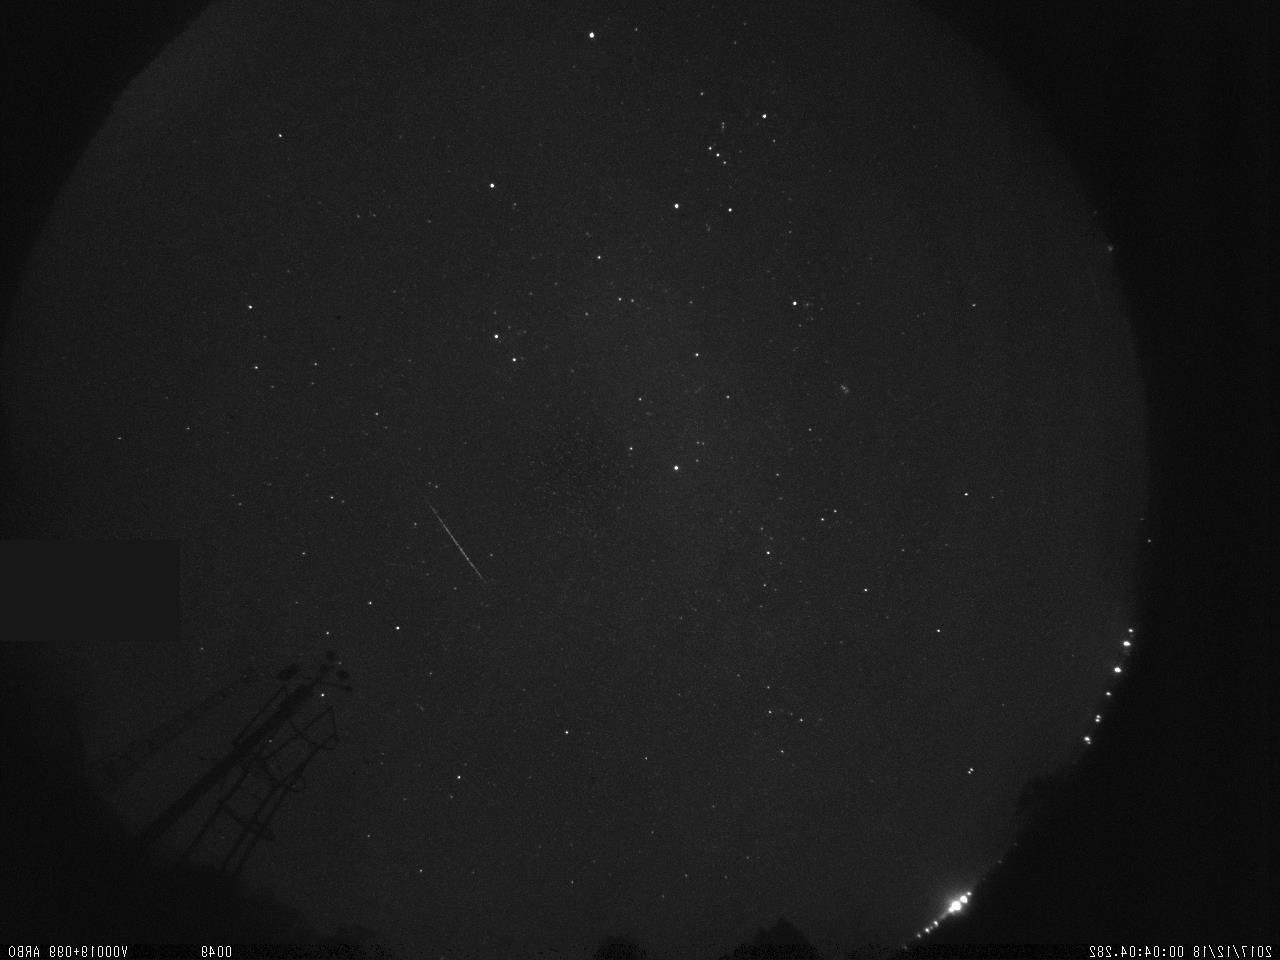meteor: (389, 471, 511, 606)
